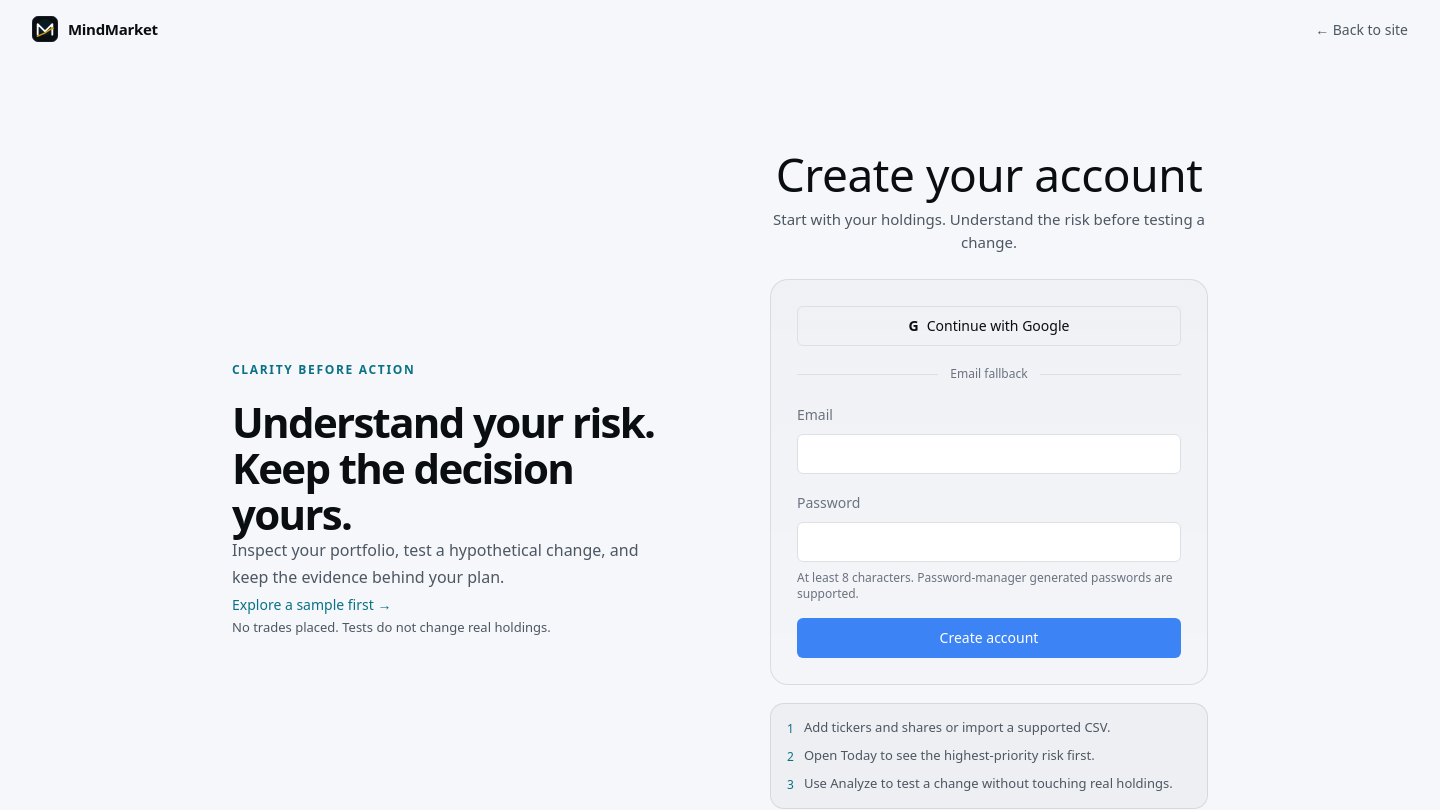
Test: SignupPage › surfaces the error when signUp rejects
In the field labelled "Email": (989, 454) [797,434,1181,474], type "x@y.com"
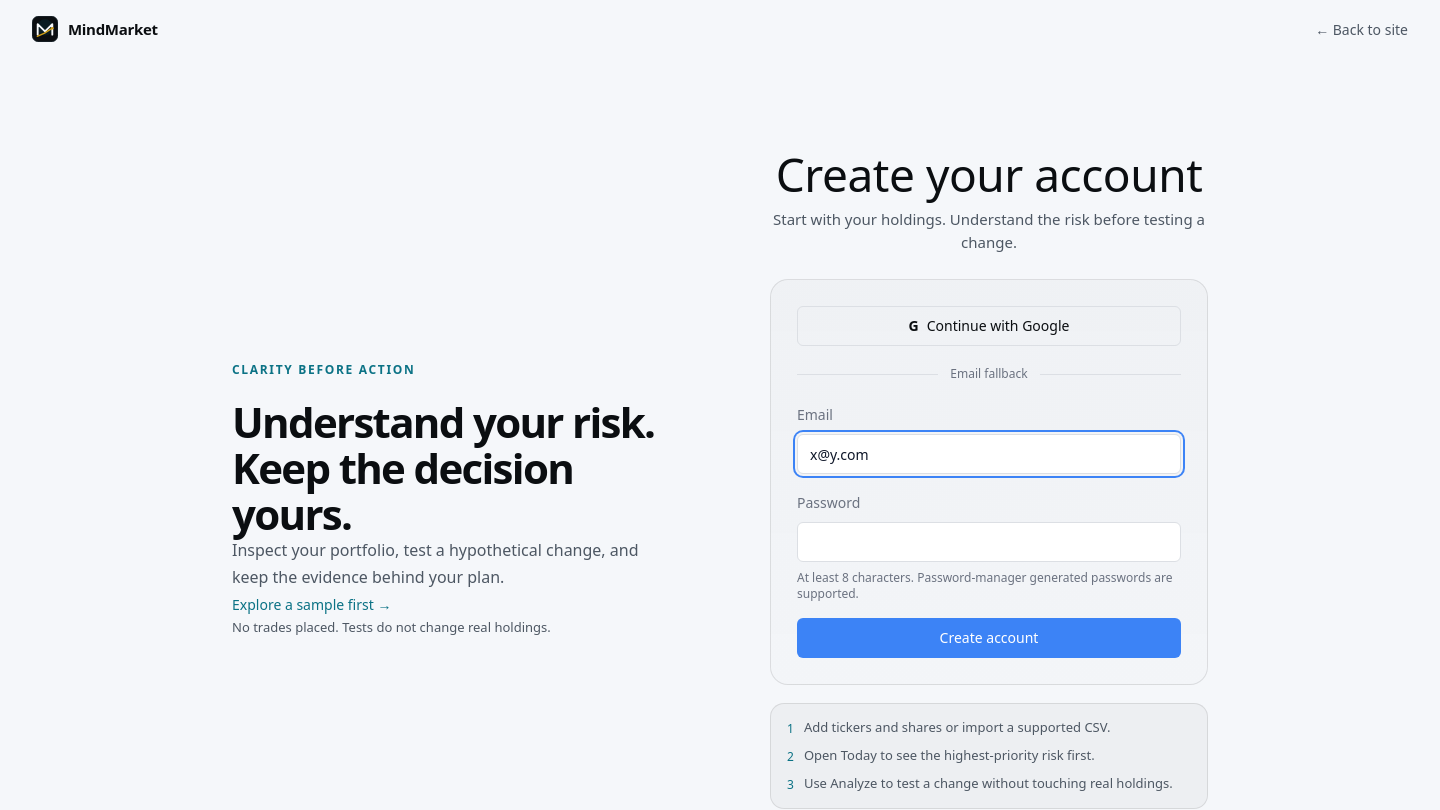
In the password field labelled "Password": (989, 542) [797,522,1181,562], type "longpassword"
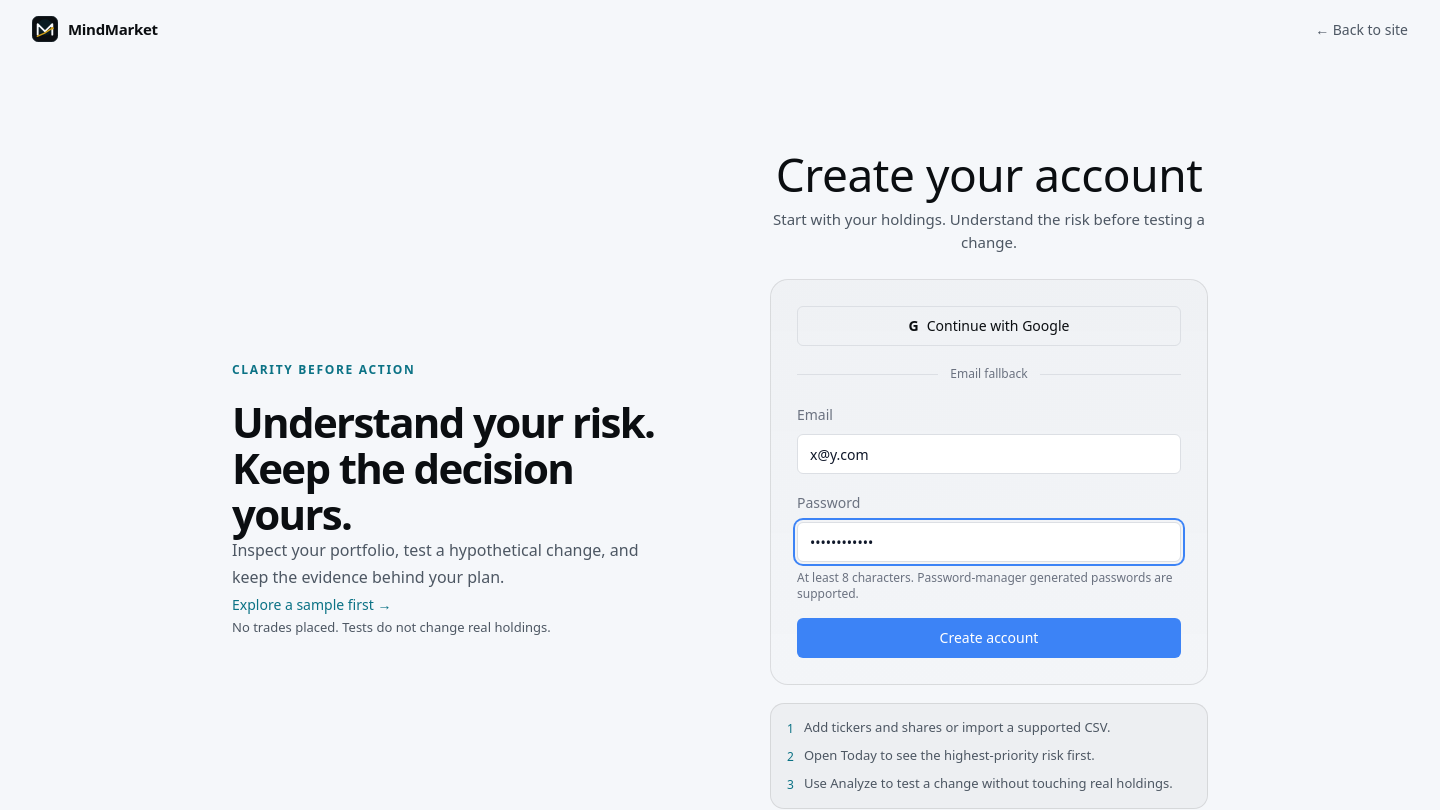
Click the button "Create account": (989, 638) [797,618,1181,658]
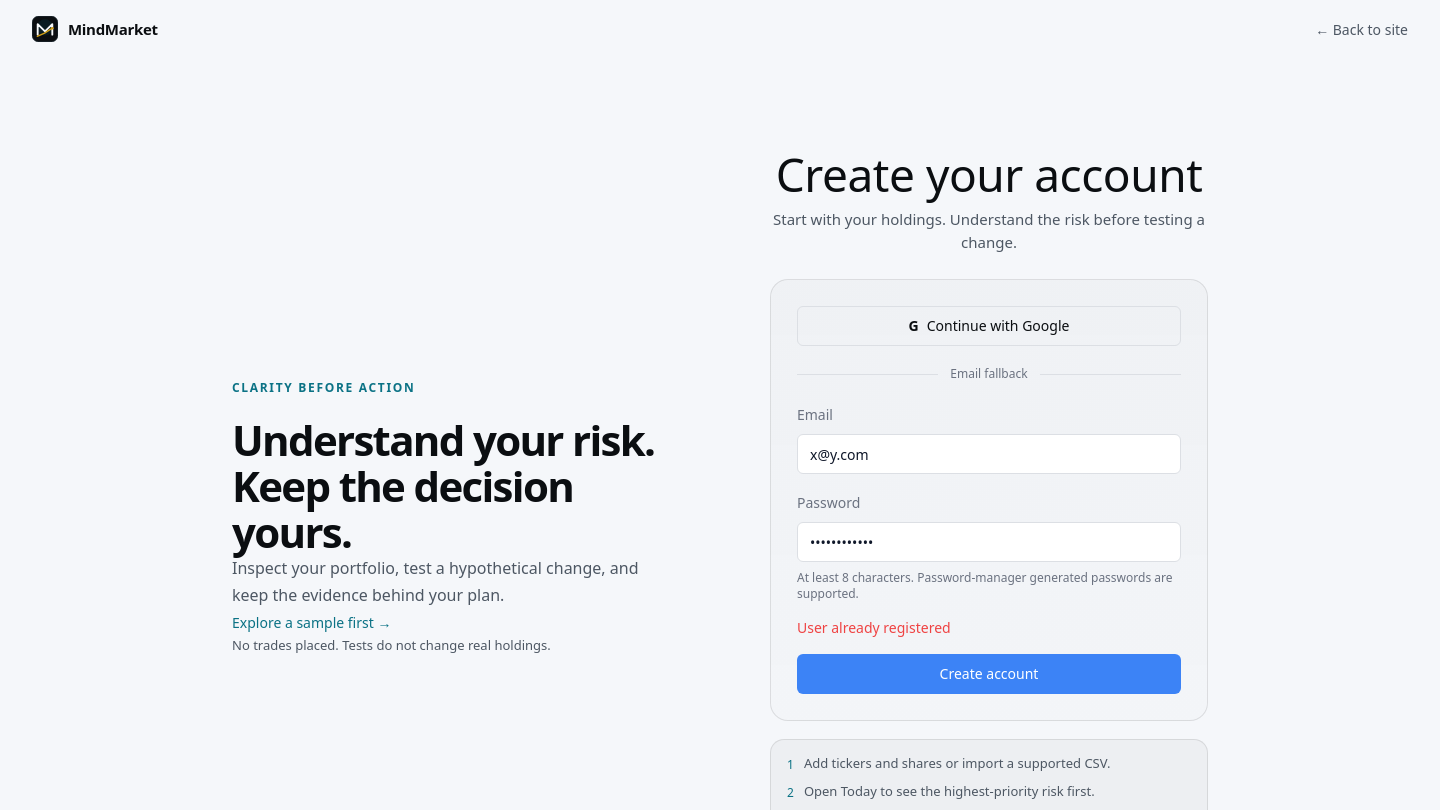
Expected: the message reads "User already registered", [797,618,951,637]
